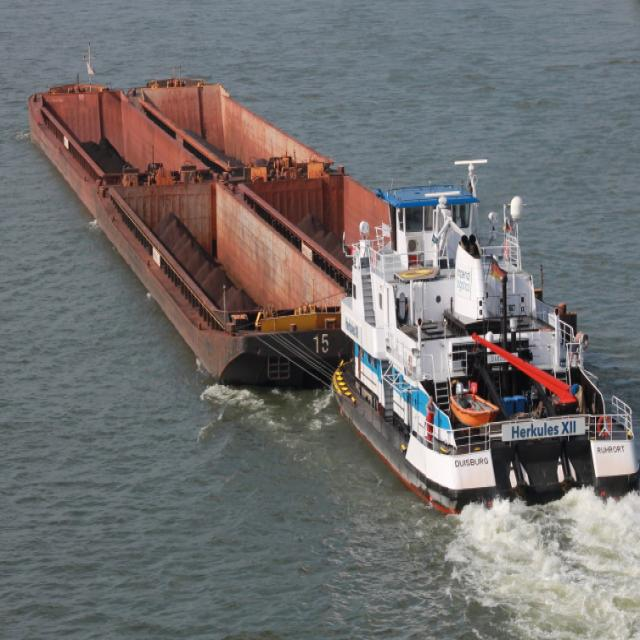tugboat: (329, 157, 640, 530)
